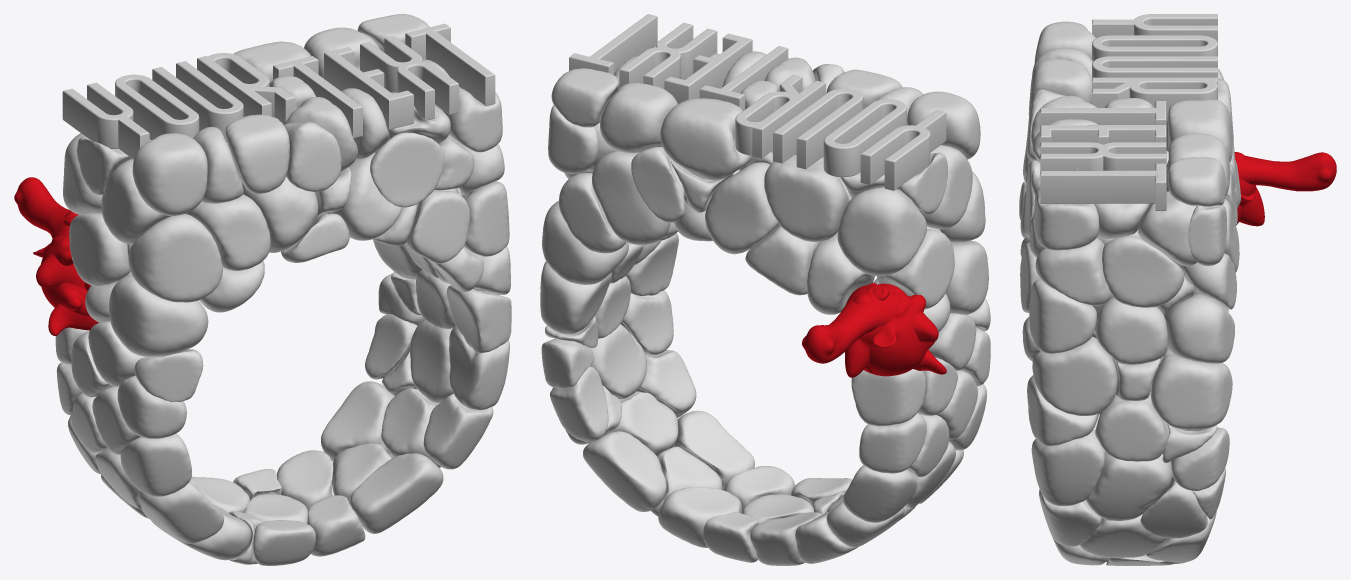
3 views of the same model, side by side, from view 1: azimuth 30°, elevation 25°; view 2: azimuth 150°, elevation 25°; view 3: azimuth 270°, elevation 25° (orthographic). The views are drawn at different scales.
Visible parts, largest first — view 1: ring, nes, pig; view 2: ring, nes, pig, sha; view 3: ring, nes, sha.
Boxes of the visible parts, <box> form: ring: <box>55,14,511,565</box>; nes: <box>14,177,99,335</box>; pig: <box>33,217,89,315</box>; ring: <box>540,14,990,565</box>; nes: <box>802,285,946,374</box>; pig: <box>864,283,935,376</box>; sha: <box>845,293,882,377</box>; ring: <box>1019,14,1240,565</box>; nes: <box>1236,152,1336,191</box>; sha: <box>1234,152,1264,226</box>.
Bounding box in the file's own units: 175 × 192 × 124.
